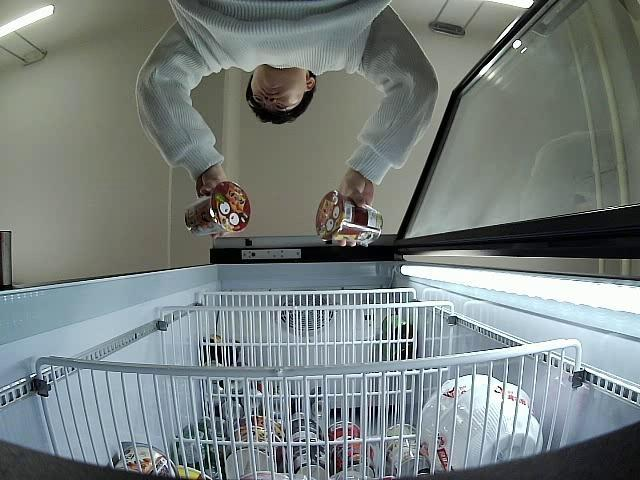06_nuguri_S: (316, 190, 384, 244), (185, 184, 250, 238)
